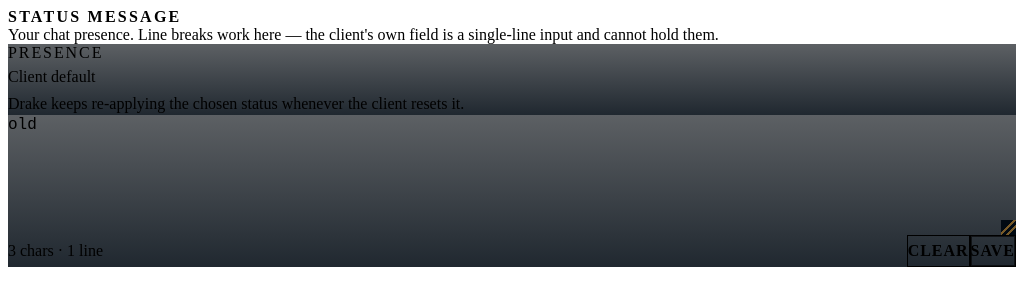
Test: StatusScreen › resets the draft when the client status is reloaded
The width and height of the screenshot is (1024, 284).
Replace the text in the text box named "Status Message" with "draft" at (512, 175), box [8,115,1016,235]
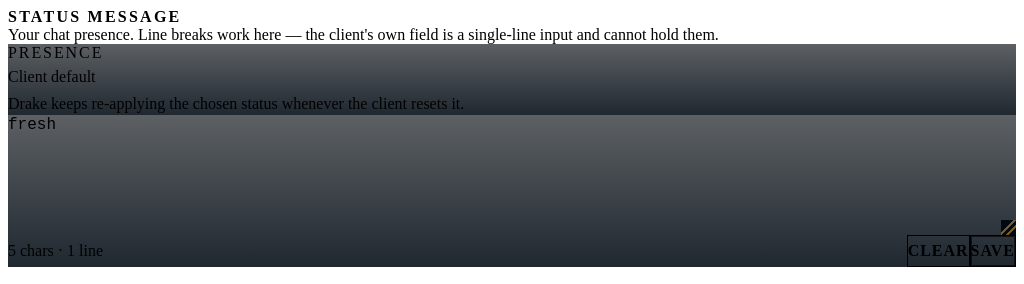
Expected: the text box named "Status Message" holds "fresh", [8,115,1016,235]
